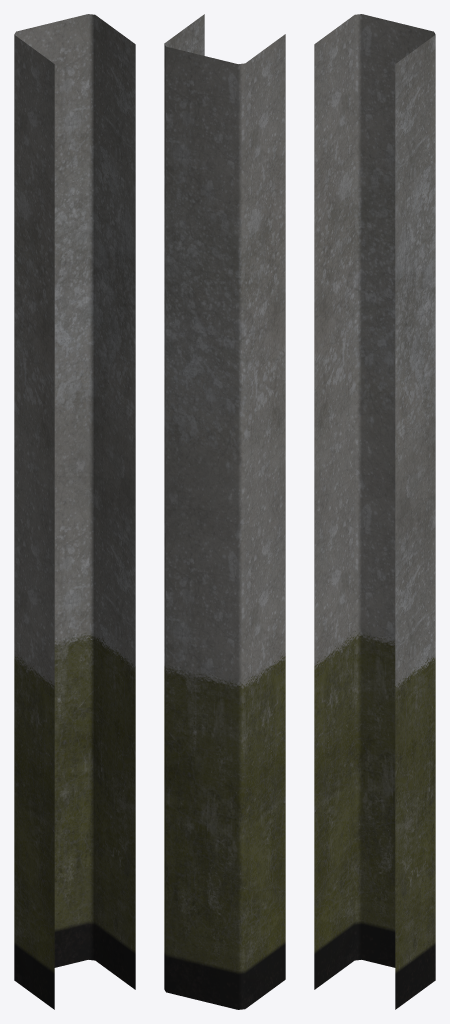
File: Basement_Corridor_E_Pillar_B.glb
The picture shows the model from 3 angles, left to right: view 1: azimuth 30°, elevation 25°; view 2: azimuth 150°, elevation 25°; view 3: azimuth 330°, elevation 25°; orthographic projection.
Visible parts, largest first — view 1: Basement_Corridor_E_Pillar_B; view 2: Basement_Corridor_E_Pillar_B; view 3: Basement_Corridor_E_Pillar_B.
Boxes of the visible parts, x1,y1,x2,y2 form: Basement_Corridor_E_Pillar_B: [14, 14, 135, 1009]; Basement_Corridor_E_Pillar_B: [164, 14, 285, 1009]; Basement_Corridor_E_Pillar_B: [314, 14, 435, 1009].
Bounding box in the file's own units: 0.3589 × 4 × 0.3299.
Materials: 1 (1 with a texture image).
